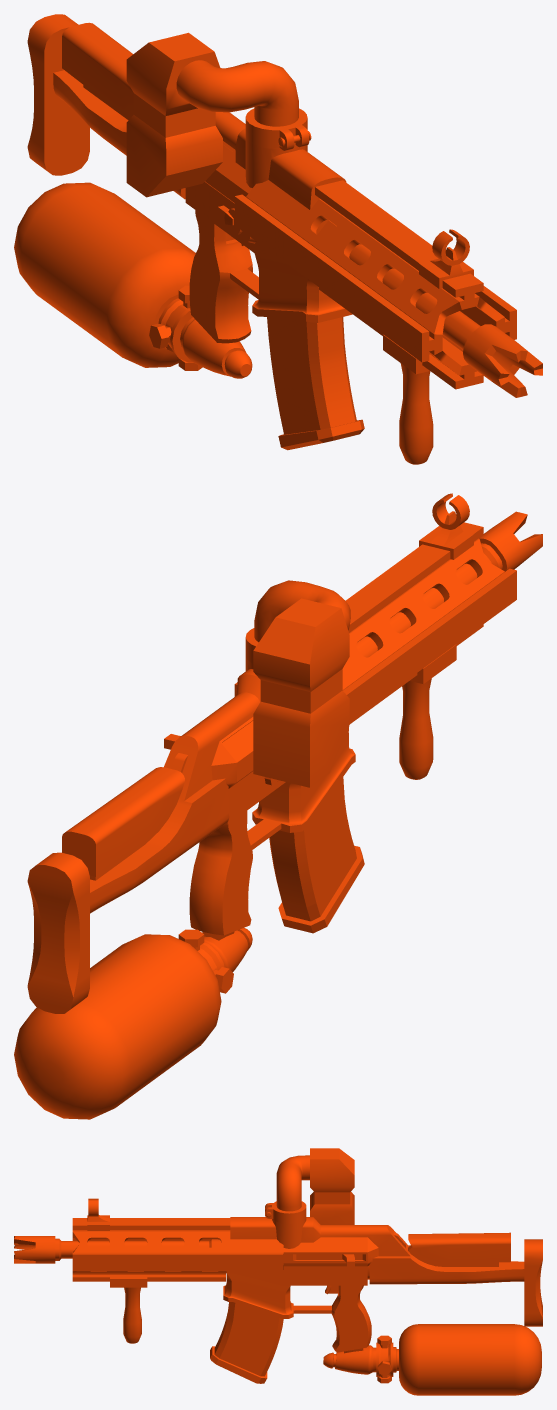
Rendered from WP_ChangsAR_V2.fbx.
3 renders of one model, top to bottom at view 1: azimuth 30°, elevation 25°; view 2: azimuth 150°, elevation 25°; view 3: azimuth 270°, elevation 25°, orthographic. The views are drawn at different scales.
Parts seen in each view (by area): view 1: AR_Low1; view 2: AR_Low1; view 3: AR_Low1.
Part boxes in pixels (x1,y1,x2,y2): AR_Low1: (14, 14, 542, 464); AR_Low1: (14, 493, 542, 1119); AR_Low1: (14, 1148, 542, 1395).
Bounding box in the file's own units: 39.08 × 100 × 217.
